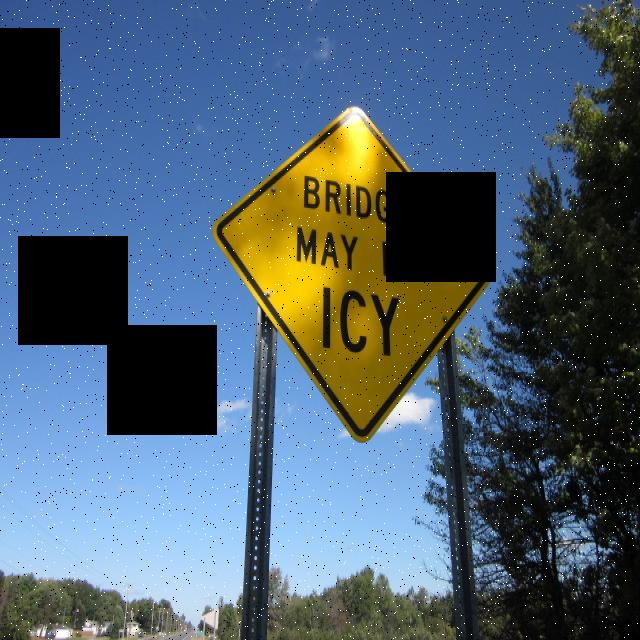warning: (211, 102, 493, 448)
